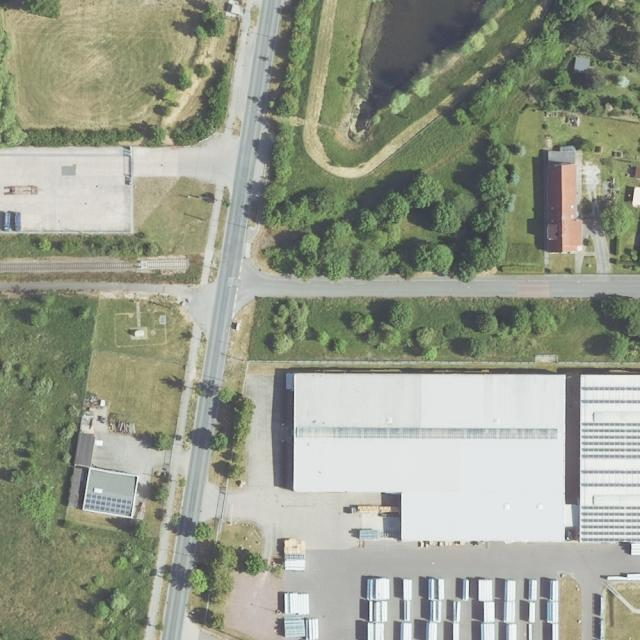PV: (583, 503, 640, 542), (581, 422, 640, 459), (83, 492, 133, 518), (581, 469, 640, 475), (582, 399, 640, 405), (582, 482, 640, 488), (581, 386, 640, 390)
